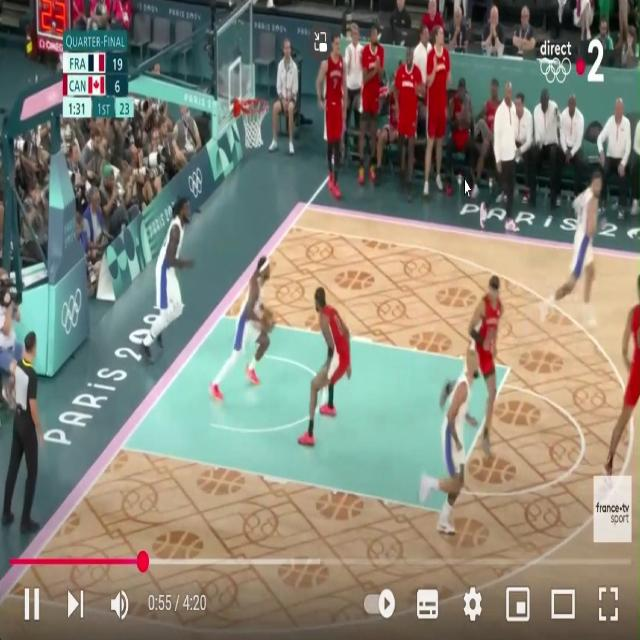ball_handler: (221, 253, 276, 402)
